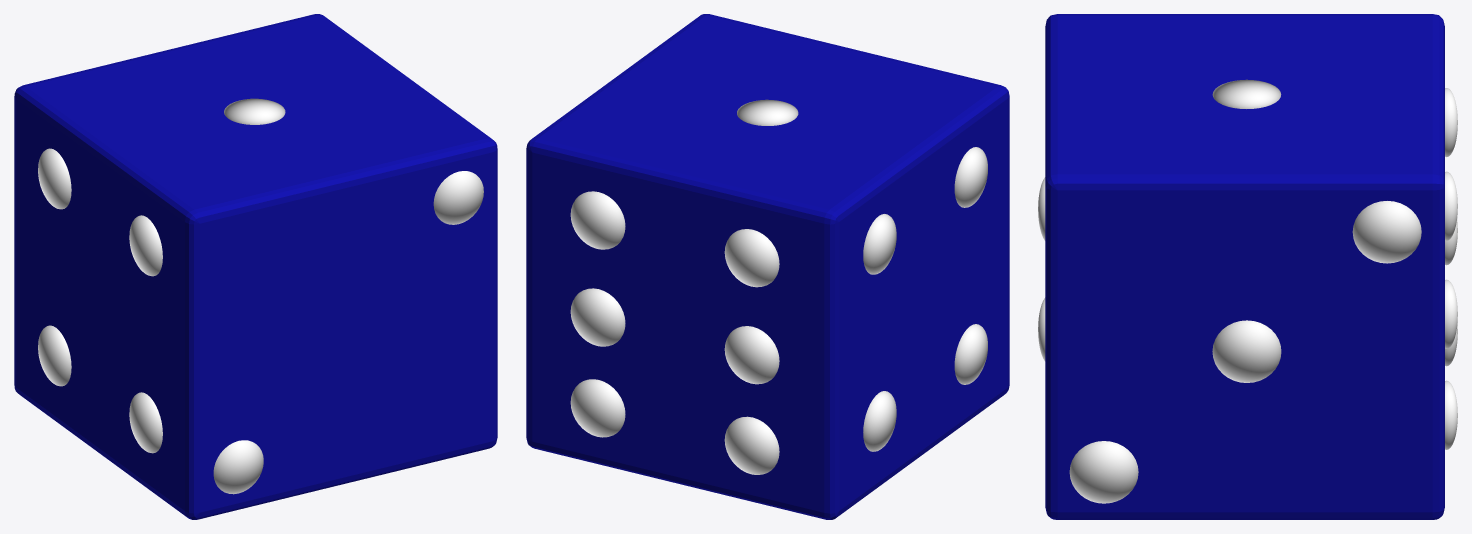
File: Dice.obj
3 renders of one model, left to right at view 1: azimuth 30°, elevation 25°; view 2: azimuth 150°, elevation 25°; view 3: azimuth 270°, elevation 25°, orthographic. The views are drawn at different scales.
Visible parts, largest first — view 1: Box001, Sphere005, Sphere003, Sphere017, Sphere018, Sphere016, Sphere015, Sphere002; view 2: Box001, Sphere010, Sphere009, Sphere011, Sphere014, Sphere012, Sphere013, Sphere015, Sphere016, Sphere017, Sphere018, Sphere002; view 3: Box001, Sphere006, Sphere008, Sphere007, Sphere002, Sphere009, Sphere013, Sphere010, Sphere011.
Boxes of the visible parts, x1,y1,x2,y2 form: Box001: [14, 14, 497, 519]; Sphere005: [213, 440, 263, 494]; Sphere003: [433, 171, 483, 224]; Sphere017: [129, 392, 162, 453]; Sphere018: [129, 215, 162, 276]; Sphere016: [38, 148, 71, 209]; Sphere015: [38, 325, 71, 386]; Sphere002: [224, 98, 285, 124]; Box001: [526, 14, 1009, 519]; Sphere010: [570, 379, 625, 437]; Sphere009: [570, 191, 625, 249]; Sphere011: [570, 288, 625, 346]; Sphere014: [724, 416, 779, 474]; Sphere012: [724, 326, 779, 384]; Sphere013: [724, 229, 779, 287]; Sphere015: [863, 391, 896, 451]; Sphere016: [863, 214, 896, 274]; Sphere017: [954, 324, 987, 384]; Sphere018: [954, 147, 987, 207]; Sphere002: [737, 99, 798, 125]; Box001: [1045, 14, 1444, 519]; Sphere006: [1069, 441, 1138, 503]; Sphere008: [1212, 320, 1281, 382]; Sphere007: [1352, 201, 1421, 263]; Sphere002: [1212, 79, 1281, 108]; Sphere009: [1445, 171, 1457, 240]; Sphere013: [1445, 88, 1457, 157]; Sphere010: [1445, 380, 1457, 449]; Sphere011: [1445, 279, 1457, 348].
Size of the model in its own units: 229078 by 216183 by 228140.
